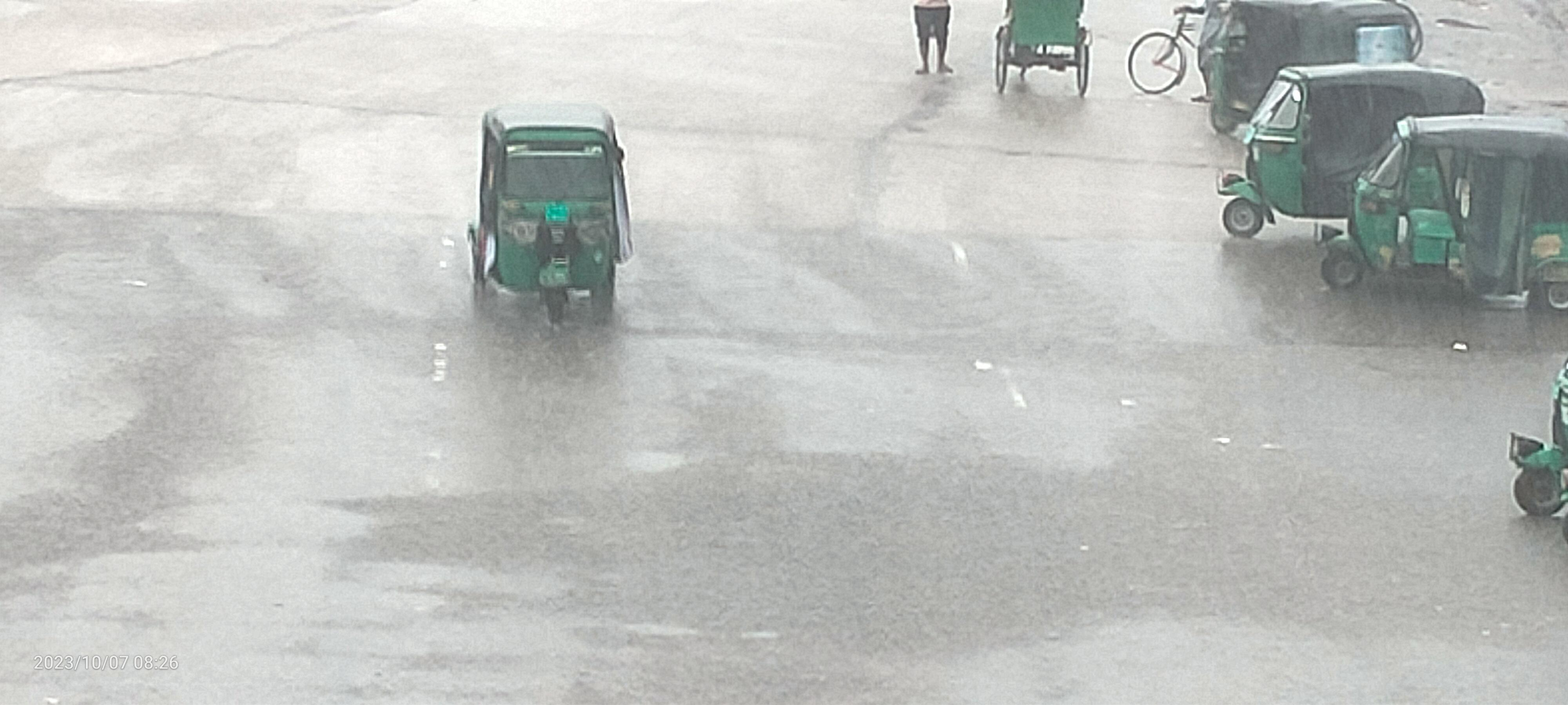Car: (980, 0, 1110, 122)
